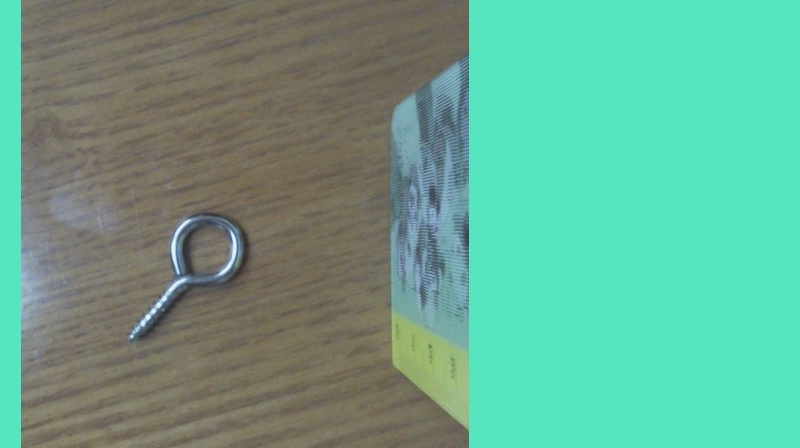O001: (122, 208, 249, 344)
